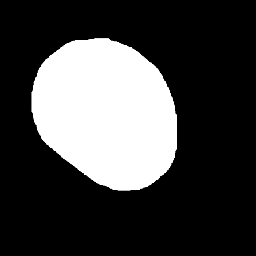mass: (35, 39, 170, 185)
